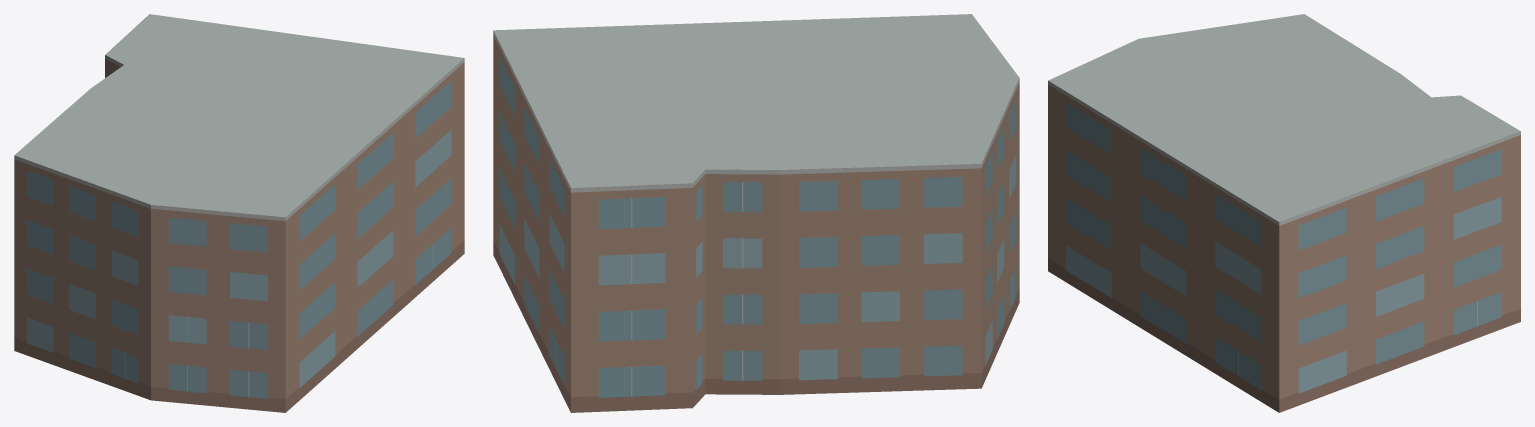
The model's file is residential-bdc0e30a-5f71-45be-aced-7a896f7b2eeb.glb.
The picture shows the model from 3 angles, left to right: view 1: azimuth 30°, elevation 25°; view 2: azimuth 150°, elevation 25°; view 3: azimuth 270°, elevation 25°; orthographic projection. The views are drawn at different scales.
Parts seen in each view (by area): view 1: residential-bdc0e30a-5f71-45be-aced-7a896f7b2eeb.tmp; view 2: residential-bdc0e30a-5f71-45be-aced-7a896f7b2eeb.tmp; view 3: residential-bdc0e30a-5f71-45be-aced-7a896f7b2eeb.tmp.
Part boxes in pixels (x1,y1,x2,y2): residential-bdc0e30a-5f71-45be-aced-7a896f7b2eeb.tmp: (14,14,464,412); residential-bdc0e30a-5f71-45be-aced-7a896f7b2eeb.tmp: (493,14,1019,412); residential-bdc0e30a-5f71-45be-aced-7a896f7b2eeb.tmp: (1048,14,1520,412).
Bounding box in the file's own units: 28.58 × 12.2 × 27.42.
